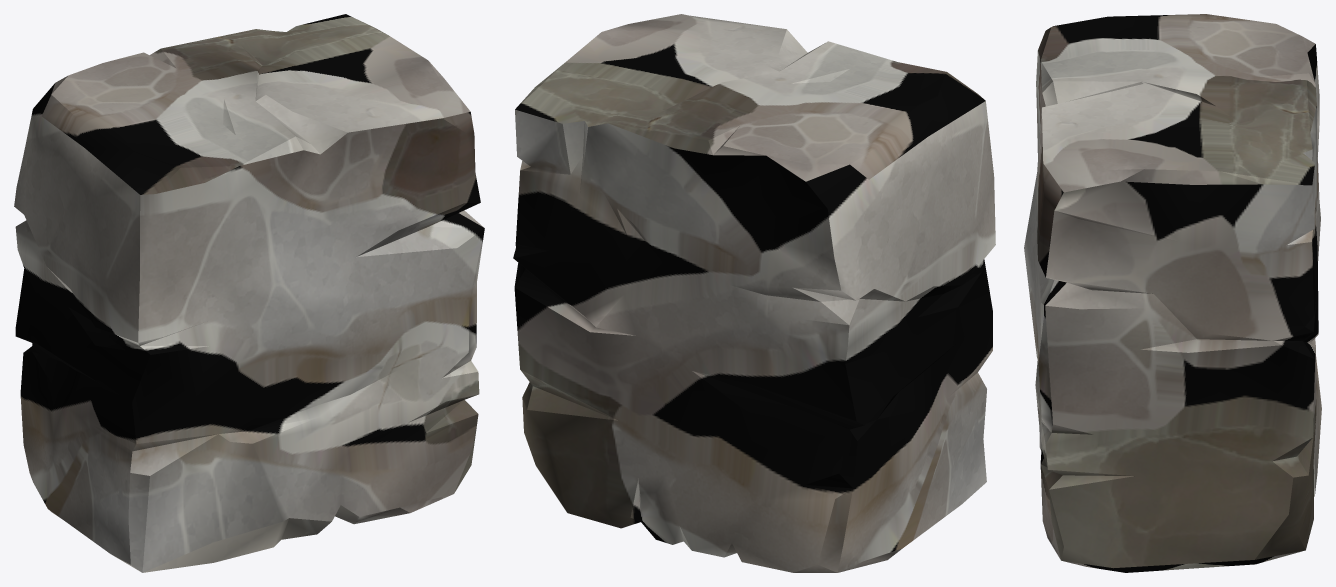
The model's file is blocky_fat.obj.
3 renders of one model, left to right at view 1: azimuth 30°, elevation 25°; view 2: azimuth 150°, elevation 25°; view 3: azimuth 270°, elevation 25°, orthographic.
Visible parts, largest first — view 1: blocky_fat; view 2: blocky_fat; view 3: blocky_fat.
Part boxes in pixels (x1,y1,x2,y2): blocky_fat: (14, 14, 484, 572); blocky_fat: (513, 14, 995, 572); blocky_fat: (1024, 14, 1321, 572).
Size of the model in its own units: 305 by 338 by 219.
